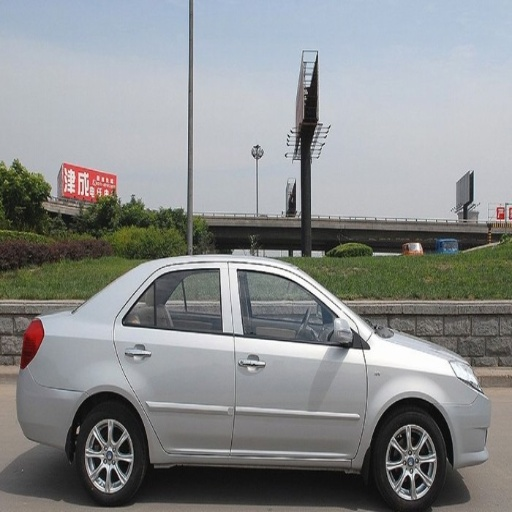back_right_door: (115, 261, 235, 452)
front_right_door: (230, 262, 366, 457)
